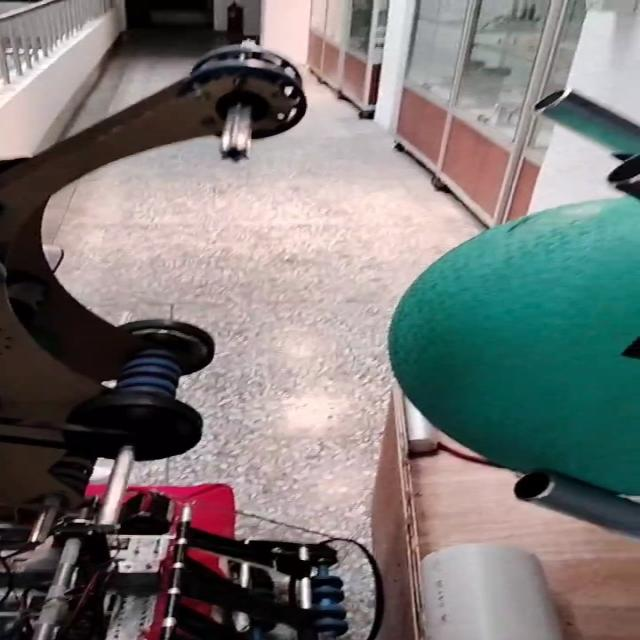ALGAE: (377, 190, 640, 509)
CORAL: (402, 538, 572, 640)
